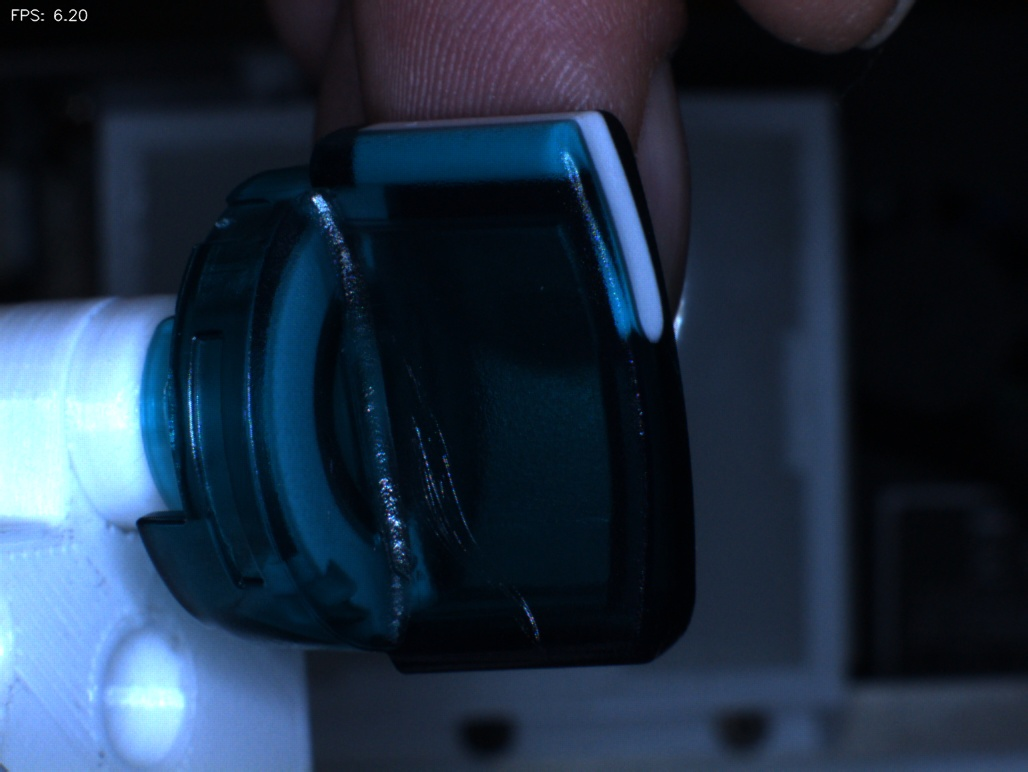Givrage: (383, 356, 565, 659)
